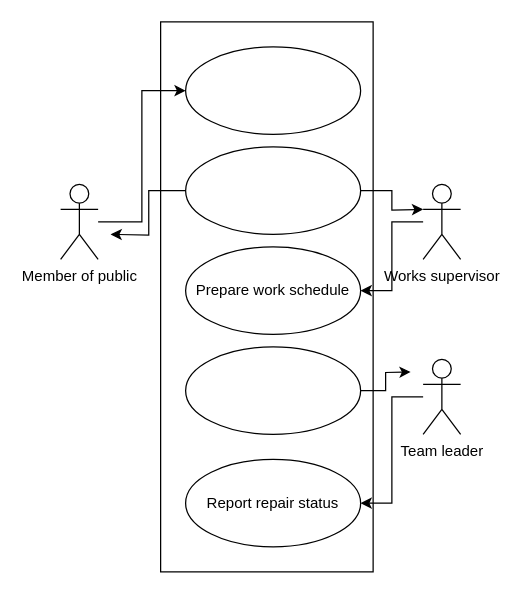
The diagram is 520 pixels wide and 594 high, and some of its shapes have lost their labels. Each missing label, with the centre of its shape:
Report pothole: (x=272, y=90)
View pothole map: (x=272, y=190)
View work schedule: (x=272, y=390)
